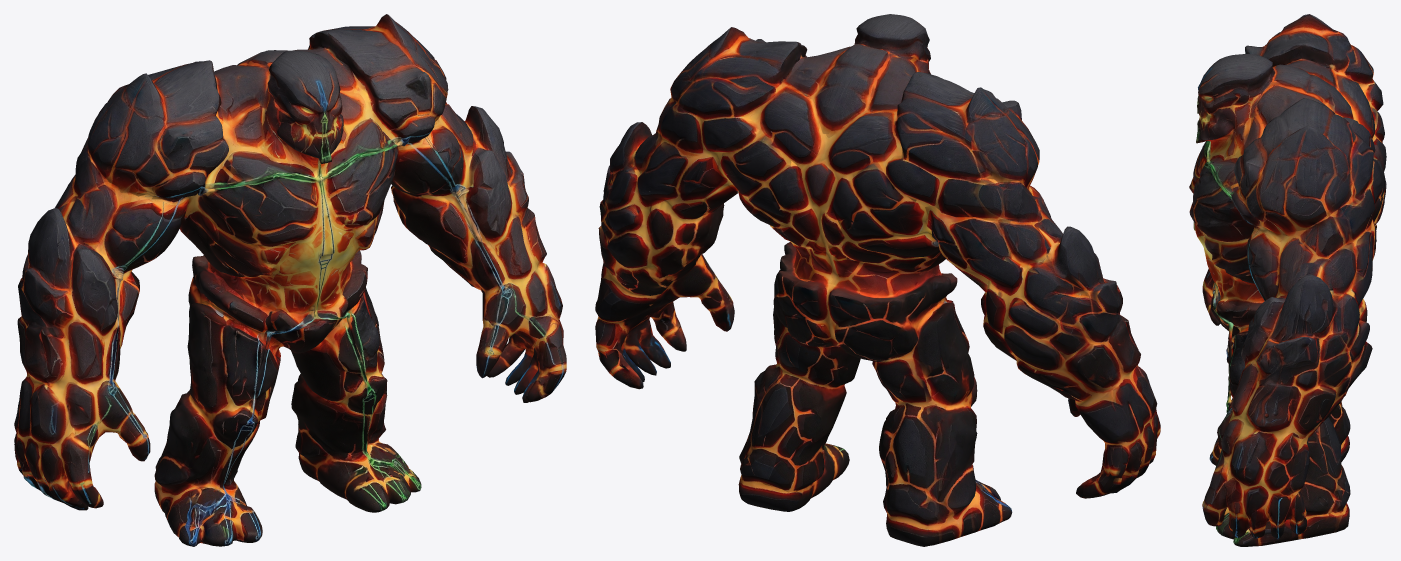
File: tripo_convert_0b5a595a-dec3-4604-8da8-70a07e308d5c.glb
3 views of the same model, side by side, from view 1: azimuth 30°, elevation 25°; view 2: azimuth 150°, elevation 25°; view 3: azimuth 270°, elevation 25° (orthographic). The views are drawn at different scales.
Visible parts, largest first — view 1: tripo_part_0, tripo_part_14, tripo_part_5, tripo_part_3, tripo_part_2, tripo_part_6, tripo_part_11, tripo_part_13, tripo_part_1, tripo_part_7, tripo_part_12, tripo_part_10 (+1 smaller); view 2: tripo_part_5, tripo_part_14, tripo_part_0, tripo_part_3, tripo_part_2, tripo_part_11, tripo_part_7, tripo_part_1, tripo_part_13, tripo_part_6, tripo_part_12, tripo_part_8 (+2 smaller); view 3: tripo_part_14, tripo_part_13, tripo_part_5, tripo_part_6, tripo_part_2, tripo_part_15, tripo_part_11, tripo_part_10, tripo_part_12, tripo_part_7, tripo_part_3, tripo_part_0.
Part boxes in pixels (x1,y1,x2,y2): tripo_part_0: (14,208,150,510); tripo_part_14: (391,102,566,402); tripo_part_5: (151,49,403,317); tripo_part_3: (154,300,281,546); tripo_part_2: (74,60,228,198); tripo_part_6: (224,49,354,176); tripo_part_11: (291,287,387,457); tripo_part_13: (308,14,448,146); tripo_part_1: (55,137,196,274); tripo_part_7: (188,250,367,353); tripo_part_12: (298,439,421,512); tripo_part_10: (324,144,401,227); tripo_part_5: (717,52,945,295); tripo_part_14: (595,77,742,389); tripo_part_0: (981,226,1160,498); tripo_part_3: (872,300,1012,546); tripo_part_2: (886,72,1039,225); tripo_part_11: (739,270,860,492); tripo_part_7: (773,242,957,361); tripo_part_1: (925,178,1062,292); tripo_part_13: (670,27,807,152); tripo_part_6: (801,14,930,80); tripo_part_12: (738,443,849,511); tripo_part_8: (794,84,876,165); tripo_part_14: (1202,140,1383,539); tripo_part_13: (1231,98,1375,235); tripo_part_5: (1189,60,1386,305); tripo_part_6: (1196,54,1313,158); tripo_part_2: (1245,14,1383,111); tripo_part_15: (1252,274,1359,351); tripo_part_11: (1226,326,1350,515); tripo_part_10: (1189,163,1254,242); tripo_part_12: (1216,503,1349,546); tripo_part_7: (1211,281,1264,349); tripo_part_3: (1209,332,1350,465); tripo_part_0: (1202,269,1220,325).
Bounding box in the file's own units: 0.9992 × 0.831 × 0.3403.
16 materials, 16 textured.
